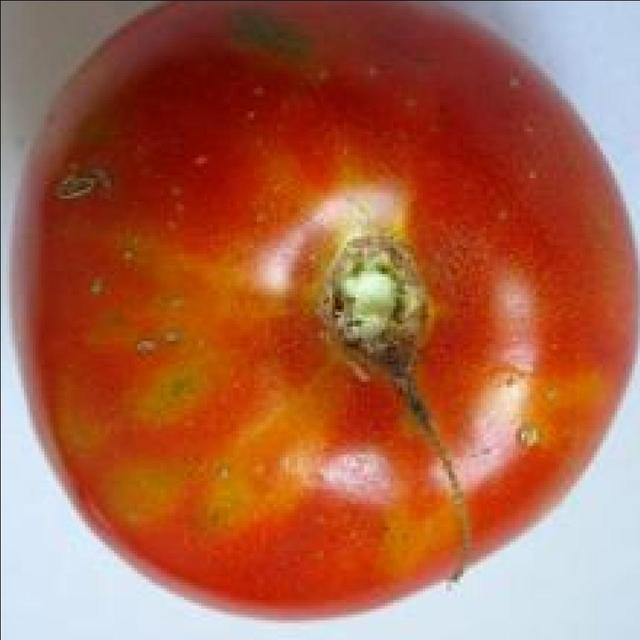Spotted wilt Virus Fruit: (6, 0, 423, 421)
